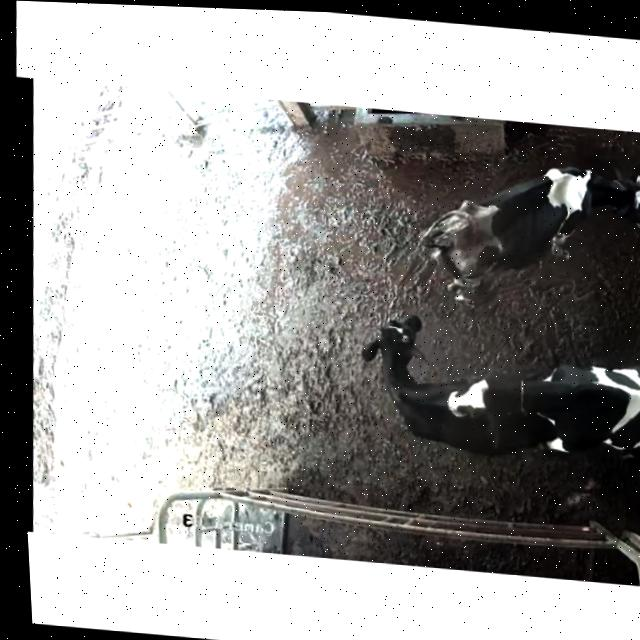ride: (434, 328, 640, 508)
